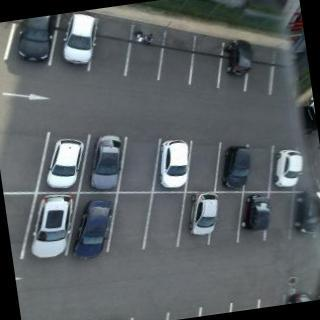car: (23, 189, 85, 262), (64, 195, 122, 261), (57, 8, 111, 72), (84, 130, 135, 192), (38, 134, 93, 190), (150, 134, 199, 192), (8, 15, 60, 66), (182, 185, 229, 240), (214, 32, 260, 81), (215, 140, 259, 190), (269, 143, 311, 190), (237, 190, 277, 234)
parking-space: (81, 9, 149, 85), (1, 116, 63, 197), (97, 185, 166, 257), (106, 131, 172, 199), (133, 187, 196, 256), (118, 15, 179, 85), (176, 131, 234, 197), (152, 24, 207, 88), (183, 28, 233, 93), (232, 137, 285, 198), (202, 188, 255, 248), (237, 36, 284, 101), (256, 183, 305, 245)
